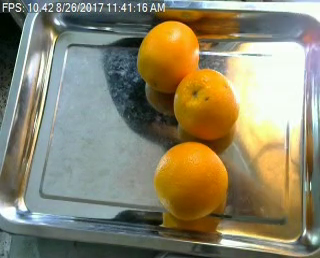Orange: (154, 140, 228, 221), (174, 67, 240, 140), (136, 19, 200, 91)
